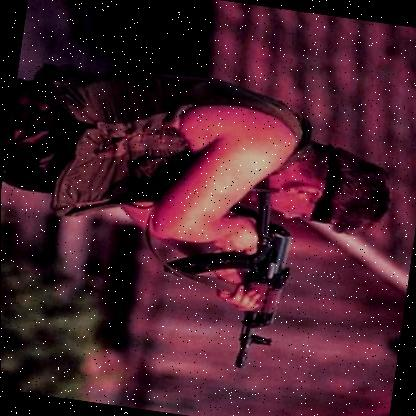rifle: (152, 160, 306, 374)
